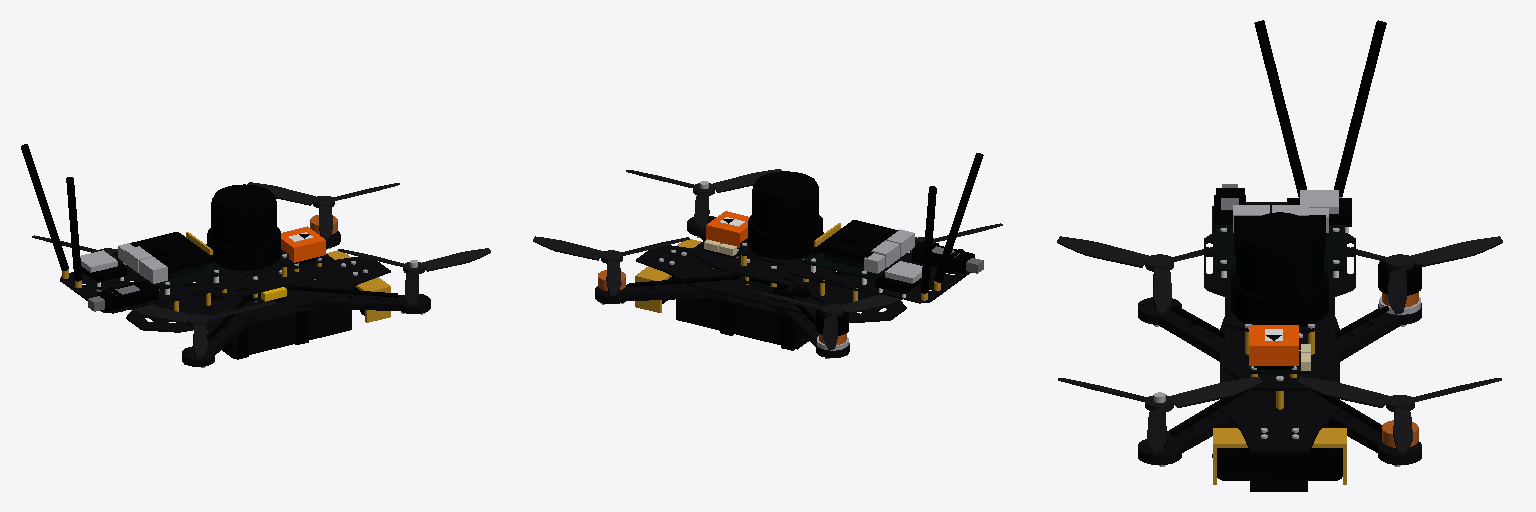
The robot description file, URDF, robot "aos7v5":
<?xml version="1.0"?>
<!-- AOS 7 V5 search-and-rescue quad, generated by Tools/DroneCAD/aos7v5/build.py (iteration 6). Do not edit by hand:
     change Tools/DroneCAD/aos7v5/params.py and rebuild.  Geometry is original (modelled from published dimensions); GPL-3.0.
     Frames: REP-103 FLU, base_link origin = frame centre (motor-rectangle centre, arm mid-plane).  Masses in kg, inertias about each link CoM.
     Rotors follow PX4 quad-X numbering: rotor_0 = motor 1 front-right CCW, rotor_1 = motor 2 rear-left CCW, rotor_2 = motor 3 front-left CW,
     rotor_3 = motor 4 rear-right CW  (CRANE M1..M4 = FR, RL, FL, RR, the same order).  Physics coefficients: aos7v5_multirotor.yaml -->
<robot name="aos7v5">
  <material name="carbon"><color rgba="0.07 0.07 0.08 1"/></material>
  <material name="orange"><color rgba="0.95 0.38 0.04 1"/></material>
  <material name="gold"><color rgba="0.8 0.6 0.16 1"/></material>
  <material name="black"><color rgba="0.03 0.03 0.035 1"/></material>
  <material name="alu"><color rgba="0.68 0.68 0.7 1"/></material>
  <material name="pcb"><color rgba="0.05 0.08 0.07 1"/></material>
  <material name="copper"><color rgba="0.72 0.38 0.14 1"/></material>
  <material name="yellow"><color rgba="0.92 0.72 0.05 1"/></material>
  <material name="grey"><color rgba="0.45 0.45 0.47 1"/></material>
  <material name="white"><color rgba="0.9 0.9 0.9 1"/></material>
  <material name="green"><color rgba="0.1 0.9 0.25 1"/></material>
  <material name="glass"><color rgba="0.02 0.03 0.04 1"/></material>
  <material name="prop"><color rgba="0.12 0.12 0.13 1"/></material>
  <material name="beige"><color rgba="0.85 0.8 0.65 1"/></material>
  <material name="lipo"><color rgba="0.05 0.05 0.06 1"/></material>
  <link name="base_link">
    <inertial><origin xyz="-0.000873798 4.57615e-05 0.00299463" rpy="0 0 0"/><mass value="0.250000"/><inertia ixx="6.155015e-04" ixy="-9.133400e-08" ixz="3.611877e-07" iyy="1.466358e-03" iyz="3.228392e-08" izz="2.029541e-03"/></inertial>
    <visual><geometry><mesh filename="package://aos7v5/meshes/visual/base_link__alu.stl"/></geometry><material name="alu"/></visual>
    <visual><geometry><mesh filename="package://aos7v5/meshes/visual/base_link__black.stl"/></geometry><material name="black"/></visual>
    <visual><geometry><mesh filename="package://aos7v5/meshes/visual/base_link__carbon.stl"/></geometry><material name="carbon"/></visual>
    <visual><geometry><mesh filename="package://aos7v5/meshes/visual/base_link__gold.stl"/></geometry><material name="gold"/></visual>
    <collision><origin xyz="-0.01 0 -0.00025" rpy="0 0 0"/><geometry><box size="0.2 0.08 0.0125"/></geometry></collision>
    <collision><origin xyz="0.0805 -0.053 0" rpy="0 0 -0.697903"/><geometry><box size="0.12138 0.022 0.008"/></geometry></collision>
    <collision><origin xyz="-0.0805 0.053 0" rpy="0 0 2.44369"/><geometry><box size="0.12138 0.022 0.008"/></geometry></collision>
    <collision><origin xyz="0.0805 0.053 0" rpy="0 0 0.697903"/><geometry><box size="0.12138 0.022 0.008"/></geometry></collision>
    <collision><origin xyz="-0.0805 -0.053 0" rpy="0 0 -2.44369"/><geometry><box size="0.12138 0.022 0.008"/></geometry></collision>
  </link>
  <link name="payload_deck_link">
    <inertial><origin xyz="-0.0963789 7.60676e-05 0.000103741" rpy="0 0 0"/><mass value="0.076474"/><inertia ixx="6.990807e-05" ixy="1.475606e-07" ixz="3.100592e-06" iyy="3.201013e-04" iyz="-2.478541e-08" izz="3.856675e-04"/></inertial>
    <visual><geometry><mesh filename="package://aos7v5/meshes/visual/payload_deck_link__alu.stl"/></geometry><material name="alu"/></visual>
    <visual><geometry><mesh filename="package://aos7v5/meshes/visual/payload_deck_link__carbon.stl"/></geometry><material name="carbon"/></visual>
    <visual><geometry><mesh filename="package://aos7v5/meshes/visual/payload_deck_link__gold.stl"/></geometry><material name="gold"/></visual>
    <visual><geometry><mesh filename="package://aos7v5/meshes/visual/payload_deck_link__white.stl"/></geometry><material name="white"/></visual>
    <collision><origin xyz="-0.096 0 0.001" rpy="0 0 0"/><geometry><box size="0.232 0.116 0.002"/></geometry></collision>
  </link>
  <joint name="payload_deck_link_joint" type="fixed"><parent link="base_link"/><child link="payload_deck_link"/><origin xyz="0 0 0.05" rpy="0 0 0"/></joint>
  <link name="motor_0">
    <inertial><origin xyz="0 0 0.00751979" rpy="0 0 0"/><mass value="0.026600"/><inertia ixx="2.038918e-06" ixy="-6.141542e-23" ixz="6.723572e-24" iyy="2.038918e-06" iyz="-2.819113e-25" izz="2.904076e-06"/></inertial>
    <visual><geometry><mesh filename="package://aos7v5/meshes/visual/motor_0__alu.stl"/></geometry><material name="alu"/></visual>
    <visual><geometry><mesh filename="package://aos7v5/meshes/visual/motor_0__copper.stl"/></geometry><material name="copper"/></visual>
    <collision><origin xyz="0 0 0.01735" rpy="0 0 0"/><geometry><cylinder radius="0.016" length="0.0347"/></geometry></collision>
  </link>
  <joint name="motor_0_joint" type="fixed"><parent link="base_link"/><child link="motor_0"/><origin xyz="0.127 -0.092 0.004" rpy="0 0 0"/></joint>
  <link name="rotor_0">
    <inertial><origin xyz="0 -4.16334e-17 -0.0044378" rpy="0 0 0"/><mass value="0.029000"/><inertia ixx="1.208863e-05" ixy="-4.235165e-20" ixz="2.879912e-20" iyy="1.208863e-05" iyz="-1.974646e-20" izz="2.200899e-05"/></inertial>
    <visual><geometry><mesh filename="package://aos7v5/meshes/visual/rotor_0__alu.stl"/></geometry><material name="alu"/></visual>
    <visual><geometry><mesh filename="package://aos7v5/meshes/visual/rotor_0__black.stl"/></geometry><material name="black"/></visual>
    <visual><geometry><mesh filename="package://aos7v5/meshes/visual/rotor_0__prop.stl"/></geometry><material name="prop"/></visual>
  </link>
  <joint name="rotor_0_joint" type="continuous"><parent link="motor_0"/><child link="rotor_0"/><origin xyz="0 0 0.036" rpy="0 0 0"/><axis xyz="0 0 1"/><dynamics damping="0" friction="0"/></joint>
  <link name="motor_1">
    <inertial><origin xyz="0 1.38778e-17 0.00751979" rpy="0 0 0"/><mass value="0.026600"/><inertia ixx="2.038918e-06" ixy="5.519962e-23" ixz="-8.964762e-24" iyy="2.038918e-06" iyz="1.258287e-24" izz="2.904076e-06"/></inertial>
    <visual><geometry><mesh filename="package://aos7v5/meshes/visual/motor_1__alu.stl"/></geometry><material name="alu"/></visual>
    <visual><geometry><mesh filename="package://aos7v5/meshes/visual/motor_1__copper.stl"/></geometry><material name="copper"/></visual>
    <collision><origin xyz="0 0 0.01735" rpy="0 0 0"/><geometry><cylinder radius="0.016" length="0.0347"/></geometry></collision>
  </link>
  <joint name="motor_1_joint" type="fixed"><parent link="base_link"/><child link="motor_1"/><origin xyz="-0.127 0.092 0.004" rpy="0 0 0"/></joint>
  <link name="rotor_1">
    <inertial><origin xyz="0 2.77556e-17 -0.0044378" rpy="0 0 0"/><mass value="0.029000"/><inertia ixx="1.208863e-05" ixy="-2.558040e-19" ixz="-6.935082e-20" iyy="1.208863e-05" iyz="2.016997e-20" izz="2.200899e-05"/></inertial>
    <visual><geometry><mesh filename="package://aos7v5/meshes/visual/rotor_1__alu.stl"/></geometry><material name="alu"/></visual>
    <visual><geometry><mesh filename="package://aos7v5/meshes/visual/rotor_1__black.stl"/></geometry><material name="black"/></visual>
    <visual><geometry><mesh filename="package://aos7v5/meshes/visual/rotor_1__prop.stl"/></geometry><material name="prop"/></visual>
  </link>
  <joint name="rotor_1_joint" type="continuous"><parent link="motor_1"/><child link="rotor_1"/><origin xyz="0 0 0.036" rpy="0 0 0"/><axis xyz="0 0 1"/><dynamics damping="0" friction="0"/></joint>
  <link name="motor_2">
    <inertial><origin xyz="0 0 0.00751979" rpy="0 0 0"/><mass value="0.026600"/><inertia ixx="2.038918e-06" ixy="-6.141542e-23" ixz="6.723572e-24" iyy="2.038918e-06" iyz="-2.819113e-25" izz="2.904076e-06"/></inertial>
    <visual><geometry><mesh filename="package://aos7v5/meshes/visual/motor_2__alu.stl"/></geometry><material name="alu"/></visual>
    <visual><geometry><mesh filename="package://aos7v5/meshes/visual/motor_2__copper.stl"/></geometry><material name="copper"/></visual>
    <collision><origin xyz="0 0 0.01735" rpy="0 0 0"/><geometry><cylinder radius="0.016" length="0.0347"/></geometry></collision>
  </link>
  <joint name="motor_2_joint" type="fixed"><parent link="base_link"/><child link="motor_2"/><origin xyz="0.127 0.092 0.004" rpy="0 0 0"/></joint>
  <link name="rotor_2">
    <inertial><origin xyz="0 4.16334e-17 -0.0044378" rpy="0 0 0"/><mass value="0.029000"/><inertia ixx="1.208863e-05" ixy="3.049319e-20" ixz="2.879912e-20" iyy="1.208863e-05" iyz="2.016997e-20" izz="2.200899e-05"/></inertial>
    <visual><geometry><mesh filename="package://aos7v5/meshes/visual/rotor_2__alu.stl"/></geometry><material name="alu"/></visual>
    <visual><geometry><mesh filename="package://aos7v5/meshes/visual/rotor_2__black.stl"/></geometry><material name="black"/></visual>
    <visual><geometry><mesh filename="package://aos7v5/meshes/visual/rotor_2__prop.stl"/></geometry><material name="prop"/></visual>
  </link>
  <joint name="rotor_2_joint" type="continuous"><parent link="motor_2"/><child link="rotor_2"/><origin xyz="0 0 0.036" rpy="0 0 0"/><axis xyz="0 0 1"/><dynamics damping="0" friction="0"/></joint>
  <link name="motor_3">
    <inertial><origin xyz="0 -1.38778e-17 0.00751979" rpy="0 0 0"/><mass value="0.026600"/><inertia ixx="2.038918e-06" ixy="5.519962e-23" ixz="-8.964762e-24" iyy="2.038918e-06" iyz="1.258287e-24" izz="2.904076e-06"/></inertial>
    <visual><geometry><mesh filename="package://aos7v5/meshes/visual/motor_3__alu.stl"/></geometry><material name="alu"/></visual>
    <visual><geometry><mesh filename="package://aos7v5/meshes/visual/motor_3__copper.stl"/></geometry><material name="copper"/></visual>
    <collision><origin xyz="0 0 0.01735" rpy="0 0 0"/><geometry><cylinder radius="0.016" length="0.0347"/></geometry></collision>
  </link>
  <joint name="motor_3_joint" type="fixed"><parent link="base_link"/><child link="motor_3"/><origin xyz="-0.127 -0.092 0.004" rpy="0 0 0"/></joint>
  <link name="rotor_3">
    <inertial><origin xyz="0 -2.77556e-17 -0.0044378" rpy="0 0 0"/><mass value="0.029000"/><inertia ixx="1.208863e-05" ixy="2.414044e-19" ixz="-6.950964e-20" iyy="1.208863e-05" iyz="-1.990527e-20" izz="2.200899e-05"/></inertial>
    <visual><geometry><mesh filename="package://aos7v5/meshes/visual/rotor_3__alu.stl"/></geometry><material name="alu"/></visual>
    <visual><geometry><mesh filename="package://aos7v5/meshes/visual/rotor_3__black.stl"/></geometry><material name="black"/></visual>
    <visual><geometry><mesh filename="package://aos7v5/meshes/visual/rotor_3__prop.stl"/></geometry><material name="prop"/></visual>
  </link>
  <joint name="rotor_3_joint" type="continuous"><parent link="motor_3"/><child link="rotor_3"/><origin xyz="0 0 0.036" rpy="0 0 0"/><axis xyz="0 0 1"/><dynamics damping="0" friction="0"/></joint>
  <link name="esc_link">
    <inertial><origin xyz="-0.00650204 -0.003927 0.000220478" rpy="0 0 0"/><mass value="0.015800"/><inertia ixx="3.061641e-06" ixy="4.034293e-07" ixz="8.008201e-08" iyy="3.031431e-06" iyz="1.104133e-07" izz="5.902906e-06"/></inertial>
    <visual><geometry><mesh filename="package://aos7v5/meshes/visual/esc_link__black.stl"/></geometry><material name="black"/></visual>
    <visual><geometry><mesh filename="package://aos7v5/meshes/visual/esc_link__pcb.stl"/></geometry><material name="pcb"/></visual>
    <visual><geometry><mesh filename="package://aos7v5/meshes/visual/esc_link__yellow.stl"/></geometry><material name="yellow"/></visual>
    <collision><origin xyz="0 0 0" rpy="0 0 0"/><geometry><box size="0.043 0.044 0.007"/></geometry></collision>
  </link>
  <joint name="esc_link_joint" type="fixed"><parent link="base_link"/><child link="esc_link"/><origin xyz="0 0 0.0125" rpy="0 0 0"/></joint>
  <link name="cube_carrier_link">
    <inertial><origin xyz="2.26936e-06 -0.00300684 0.0121386" rpy="0 0 0"/><mass value="0.056016"/><inertia ixx="1.093394e-05" ixy="2.025246e-10" ixz="-1.565040e-09" iyy="9.272182e-06" iyz="6.967221e-07" izz="1.458130e-05"/></inertial>
    <visual><geometry><mesh filename="package://aos7v5/meshes/visual/cube_carrier_link__alu.stl"/></geometry><material name="alu"/></visual>
    <visual><geometry><mesh filename="package://aos7v5/meshes/visual/cube_carrier_link__beige.stl"/></geometry><material name="beige"/></visual>
    <visual><geometry><mesh filename="package://aos7v5/meshes/visual/cube_carrier_link__black.stl"/></geometry><material name="black"/></visual>
    <visual><geometry><mesh filename="package://aos7v5/meshes/visual/cube_carrier_link__gold.stl"/></geometry><material name="gold"/></visual>
    <visual><geometry><mesh filename="package://aos7v5/meshes/visual/cube_carrier_link__orange.stl"/></geometry><material name="orange"/></visual>
    <visual><geometry><mesh filename="package://aos7v5/meshes/visual/cube_carrier_link__pcb.stl"/></geometry><material name="pcb"/></visual>
    <visual><geometry><mesh filename="package://aos7v5/meshes/visual/cube_carrier_link__white.stl"/></geometry><material name="white"/></visual>
    <collision><origin xyz="0 0 0.012" rpy="0 0 0"/><geometry><box size="0.0385 0.0474 0.024"/></geometry></collision>
  </link>
  <joint name="cube_carrier_link_joint" type="fixed"><parent link="base_link"/><child link="cube_carrier_link"/><origin xyz="0.044 0 0.035" rpy="0 0 0"/></joint>
  <link name="l2_link">
    <inertial><origin xyz="1.80531e-06 -1.3887e-06 0.0342558" rpy="0 0 0"/><mass value="0.230000"/><inertia ixx="1.405522e-04" ixy="8.303855e-09" ixz="5.504095e-09" iyy="1.405566e-04" iyz="-4.233919e-09" izz="1.369710e-04"/></inertial>
    <visual><geometry><mesh filename="package://aos7v5/meshes/visual/l2_link__black.stl"/></geometry><material name="black"/></visual>
    <visual><geometry><mesh filename="package://aos7v5/meshes/visual/l2_link__glass.stl"/></geometry><material name="glass"/></visual>
    <visual><geometry><mesh filename="package://aos7v5/meshes/visual/l2_link__green.stl"/></geometry><material name="green"/></visual>
    <collision><origin xyz="0 0 0.0325" rpy="0 0 0"/><geometry><box size="0.075 0.075 0.065"/></geometry></collision>
  </link>
  <joint name="l2_link_joint" type="fixed"><parent link="base_link"/><child link="l2_link"/><origin xyz="-0.02 0 0.052" rpy="0 0 0"/></joint>
  <link name="jetson_link">
    <inertial><origin xyz="-0.00545893 6.2431e-05 0.00872031" rpy="0 0 0"/><mass value="0.176000"/><inertia ixx="8.334902e-05" ixy="-1.260638e-06" ixz="7.147825e-07" iyy="8.264478e-05" iyz="2.164732e-07" izz="1.551488e-04"/></inertial>
    <visual><geometry><mesh filename="package://aos7v5/meshes/visual/jetson_link__alu.stl"/></geometry><material name="alu"/></visual>
    <visual><geometry><mesh filename="package://aos7v5/meshes/visual/jetson_link__black.stl"/></geometry><material name="black"/></visual>
    <visual><geometry><mesh filename="package://aos7v5/meshes/visual/jetson_link__gold.stl"/></geometry><material name="gold"/></visual>
    <visual><geometry><mesh filename="package://aos7v5/meshes/visual/jetson_link__pcb.stl"/></geometry><material name="pcb"/></visual>
    <collision><origin xyz="0 0 0.0105" rpy="0 0 0"/><geometry><box size="0.079 0.1 0.022"/></geometry></collision>
  </link>
  <joint name="jetson_link_joint" type="fixed"><parent link="base_link"/><child link="jetson_link"/><origin xyz="-0.106 0 0.062" rpy="0 0 0"/></joint>
  <link name="usb_eth_link">
    <inertial><origin xyz="-0.00288702 0 0.00648275" rpy="0 0 0"/><mass value="0.025500"/><inertia ixx="1.344155e-06" ixy="4.019743e-21" ixz="-3.553939e-08" iyy="1.007338e-05" iyz="-1.381834e-21" izz="1.068150e-05"/></inertial>
    <visual><geometry><mesh filename="package://aos7v5/meshes/visual/usb_eth_link__black.stl"/></geometry><material name="black"/></visual>
    <visual><geometry><mesh filename="package://aos7v5/meshes/visual/usb_eth_link__grey.stl"/></geometry><material name="grey"/></visual>
    <collision><origin xyz="0 0 0.0065" rpy="0 0 0"/><geometry><box size="0.06 0.022 0.013"/></geometry></collision>
  </link>
  <joint name="usb_eth_link_joint" type="fixed"><parent link="base_link"/><child link="usb_eth_link"/><origin xyz="-0.179 -0.038 0.052" rpy="0 0 0"/></joint>
  <link name="radio_link">
    <inertial><origin xyz="-0.02296 0.00047619 0.034617" rpy="0 0 0"/><mass value="0.042000"/><inertia ixx="9.288971e-05" ixy="4.771202e-07" ixz="3.564440e-05" iyy="9.574056e-05" iyz="-6.245750e-07" izz="4.821575e-05"/></inertial>
    <visual><geometry><mesh filename="package://aos7v5/meshes/visual/radio_link__alu.stl"/></geometry><material name="alu"/></visual>
    <visual><geometry><mesh filename="package://aos7v5/meshes/visual/radio_link__black.stl"/></geometry><material name="black"/></visual>
    <visual><geometry><mesh filename="package://aos7v5/meshes/visual/radio_link__gold.stl"/></geometry><material name="gold"/></visual>
    <collision><origin xyz="-0.003 0 0.007" rpy="0 0 0"/><geometry><box size="0.041 0.05 0.014"/></geometry></collision>
  </link>
  <joint name="radio_link_joint" type="fixed"><parent link="base_link"/><child link="radio_link"/><origin xyz="-0.172 0.03 0.058" rpy="0 0 0"/></joint>
  <link name="rx_link">
    <inertial><origin xyz="-0.00138222 0.000600966 0.00018029" rpy="0 0 0"/><mass value="0.005000"/><inertia ixx="9.894092e-08" ixy="7.996534e-08" ixz="2.398960e-08" iyy="2.854771e-07" iyz="-1.147427e-08" izz="3.578785e-07"/></inertial>
    <visual><geometry><mesh filename="package://aos7v5/meshes/visual/rx_link__black.stl"/></geometry><material name="black"/></visual>
  </link>
  <joint name="rx_link_joint" type="fixed"><parent link="base_link"/><child link="rx_link"/><origin xyz="-0.044 0.012 0.0086" rpy="0 0 0"/></joint>
  <link name="oak_d_link">
    <inertial><origin xyz="6.78728e-05 -8.3458e-20 1.1652e-05" rpy="0 0 0"/><mass value="0.091000"/><inertia ixx="7.794726e-05" ixy="-5.416916e-25" ixz="-1.228088e-08" iyy="1.066229e-05" iyz="3.107036e-23" izz="7.547410e-05"/></inertial>
    <visual><geometry><mesh filename="package://aos7v5/meshes/visual/oak_d_link__black.stl"/></geometry><material name="black"/></visual>
    <visual><geometry><mesh filename="package://aos7v5/meshes/visual/oak_d_link__glass.stl"/></geometry><material name="glass"/></visual>
    <collision><origin xyz="0.001 0 0" rpy="0 0 0"/><geometry><box size="0.0291 0.103 0.0375"/></geometry></collision>
  </link>
  <joint name="oak_d_link_joint" type="fixed"><parent link="base_link"/><child link="oak_d_link"/><origin xyz="0.10805 0 -0.01375" rpy="0 0 0"/></joint>
  <link name="oak_bracket_link">
    <inertial><origin xyz="0.00100355 5.29396e-20 0.00999997" rpy="0 0 0"/><mass value="0.015000"/><inertia ixx="2.441712e-05" ixy="1.364848e-23" ixz="-9.693651e-10" iyy="2.562239e-06" iyz="-6.617445e-24" izz="2.396852e-05"/></inertial>
    <visual><geometry><mesh filename="package://aos7v5/meshes/visual/oak_bracket_link__alu.stl"/></geometry><material name="alu"/></visual>
    <visual><geometry><mesh filename="package://aos7v5/meshes/visual/oak_bracket_link__gold.stl"/></geometry><material name="gold"/></visual>
  </link>
  <joint name="oak_bracket_link_joint" type="fixed"><parent link="base_link"/><child link="oak_bracket_link"/><origin xyz="0.10805 0 -0.01375" rpy="0 0 0"/></joint>
  <link name="harness_link">
    <inertial><origin xyz="0.00474134 0.0036865 -0.00467402" rpy="0 0 0"/><mass value="0.055000"/><inertia ixx="1.243625e-04" ixy="8.099198e-06" ixz="3.416401e-08" iyy="2.313514e-04" iyz="-4.905048e-07" izz="3.549461e-04"/></inertial>
    <visual><geometry><mesh filename="package://aos7v5/meshes/visual/harness_link__black.stl"/></geometry><material name="black"/></visual>
  </link>
  <joint name="harness_link_joint" type="fixed"><parent link="base_link"/><child link="harness_link"/><origin xyz="-0.01 0 0.014" rpy="0 0 0"/></joint>
  <link name="battery_link">
    <inertial><origin xyz="-0.000788056 1.0842e-19 0.000224742" rpy="0 0 0"/><mass value="0.524000"/><inertia ixx="1.581559e-04" ixy="9.929434e-22" ixz="2.384842e-06" iyy="9.493778e-04" iyz="9.461535e-23" izz="9.661751e-04"/></inertial>
    <visual><geometry><mesh filename="package://aos7v5/meshes/visual/battery_link__grey.stl"/></geometry><material name="grey"/></visual>
    <visual><geometry><mesh filename="package://aos7v5/meshes/visual/battery_link__lipo.stl"/></geometry><material name="lipo"/></visual>
    <visual><geometry><mesh filename="package://aos7v5/meshes/visual/battery_link__yellow.stl"/></geometry><material name="yellow"/></visual>
    <collision><origin xyz="0 0 0" rpy="0 0 0"/><geometry><box size="0.14 0.045 0.04"/></geometry></collision>
  </link>
  <joint name="battery_link_joint" type="fixed"><parent link="base_link"/><child link="battery_link"/><origin xyz="0.024 -0.000714141 -0.0295" rpy="0 0 0"/></joint>
  <link name="oak_d_left_camera_frame"/>
  <joint name="oak_d_left_camera_frame_joint" type="fixed"><parent link="oak_d_link"/><child link="oak_d_left_camera_frame"/><origin xyz="0.01155 0.0375 0" rpy="0 0 0"/></joint>
  <link name="oak_d_right_camera_frame"/>
  <joint name="oak_d_right_camera_frame_joint" type="fixed"><parent link="oak_d_link"/><child link="oak_d_right_camera_frame"/><origin xyz="0.01155 -0.0375 0" rpy="0 0 0"/></joint>
  <link name="oak_d_rgb_camera_frame"/>
  <joint name="oak_d_rgb_camera_frame_joint" type="fixed"><parent link="oak_d_link"/><child link="oak_d_rgb_camera_frame"/><origin xyz="0.01155 0 0" rpy="0 0 0"/></joint>
  <link name="oak_d_left_camera_optical_frame"/>
  <joint name="oak_d_left_camera_optical_frame_joint" type="fixed"><parent link="oak_d_left_camera_frame"/><child link="oak_d_left_camera_optical_frame"/><origin xyz="0 0 0" rpy="-1.5707963 0 -1.5707963"/></joint>
  <link name="oak_d_right_camera_optical_frame"/>
  <joint name="oak_d_right_camera_optical_frame_joint" type="fixed"><parent link="oak_d_right_camera_frame"/><child link="oak_d_right_camera_optical_frame"/><origin xyz="0 0 0" rpy="-1.5707963 0 -1.5707963"/></joint>
  <link name="oak_d_rgb_camera_optical_frame"/>
  <joint name="oak_d_rgb_camera_optical_frame_joint" type="fixed"><parent link="oak_d_rgb_camera_frame"/><child link="oak_d_rgb_camera_optical_frame"/><origin xyz="0 0 0" rpy="-1.5707963 0 -1.5707963"/></joint>
  <link name="l2_lidar_frame"/>
  <joint name="l2_lidar_frame_joint" type="fixed"><parent link="l2_link"/><child link="l2_lidar_frame"/><origin xyz="0 0 0.0445" rpy="0 0 0"/></joint>
  <link name="l2_imu_frame"/>
  <joint name="l2_imu_frame_joint" type="fixed"><parent link="l2_link"/><child link="l2_imu_frame"/><origin xyz="-0.007 0 0.0572" rpy="0 0 0"/></joint>
  <link name="cube_imu_link"/>
  <joint name="cube_imu_link_joint" type="fixed"><parent link="cube_carrier_link"/><child link="cube_imu_link"/><origin xyz="0 -0.0046 0.01565" rpy="0 0 0"/></joint>
  <gazebo reference="l2_lidar_frame"><sensor name="unitree_l2" type="gpu_lidar"><update_rate>10</update_rate></sensor></gazebo>
  <gazebo reference="oak_d_rgb_camera_optical_frame"><sensor name="oak_d_rgb" type="camera"><update_rate>30</update_rate></sensor></gazebo>
  <gazebo reference="oak_d_left_camera_optical_frame"><sensor name="oak_d_left" type="camera"><update_rate>30</update_rate></sensor></gazebo>
  <gazebo reference="oak_d_right_camera_optical_frame"><sensor name="oak_d_right" type="camera"><update_rate>30</update_rate></sensor></gazebo>
  <gazebo reference="cube_imu_link"><sensor name="cube_imu" type="imu"><update_rate>250</update_rate></sensor></gazebo>
</robot>

--- Render facts (derived) ---
The picture shows the robot from 3 angles, left to right: view 1: azimuth 30°, elevation 25°; view 2: azimuth 150°, elevation 25°; view 3: azimuth 270°, elevation 25°; orthographic projection.
Robot: aos7v5 — 30 links, 29 joints (4 continuous, 25 fixed); root link base_link; default pose: every joint at zero.
Links seen in each view (by area): view 1: base_link, l2_link, jetson_link, radio_link, payload_deck_link, battery_link, rotor_0, rotor_3, cube_carrier_link, rotor_2, usb_eth_link, oak_bracket_link (+1 smaller); view 2: base_link, l2_link, jetson_link, radio_link, payload_deck_link, battery_link, rotor_1, rotor_2, cube_carrier_link, rotor_0, usb_eth_link, oak_bracket_link (+1 smaller); view 3: base_link, l2_link, radio_link, oak_d_link, rotor_1, jetson_link, payload_deck_link, rotor_0, rotor_2, cube_carrier_link, rotor_3, oak_bracket_link (+3 smaller).
Boxes of the visible links, x1,y1,x2,y2 form: base_link: (126,231,430,367); l2_link: (207,184,280,270); jetson_link: (113,232,228,289); radio_link: (21,144,126,287); payload_deck_link: (60,244,288,313); battery_link: (207,308,351,358); rotor_0: (338,248,490,306); rotor_3: (130,301,274,359); cube_carrier_link: (281,226,325,271); rotor_2: (247,182,399,240); usb_eth_link: (88,280,159,311); oak_bracket_link: (326,250,390,322); base_link: (595,216,933,358); l2_link: (748,171,822,259); jetson_link: (801,220,919,278); radio_link: (875,153,983,300); payload_deck_link: (740,232,971,303); battery_link: (676,298,808,349); rotor_1: (754,291,902,350); rotor_2: (533,236,689,296); cube_carrier_link: (702,211,749,257); rotor_0: (626,169,781,228); usb_eth_link: (911,241,983,273); oak_bracket_link: (635,239,700,312); base_link: (1138,297,1421,466); l2_link: (1231,214,1328,326); radio_link: (1254,20,1386,226); oak_d_link: (1212,448,1342,480); rotor_1: (1356,236,1502,314); jetson_link: (1215,205,1344,270); payload_deck_link: (1204,202,1355,354); rotor_0: (1058,377,1262,454); rotor_2: (1297,377,1501,454); cube_carrier_link: (1249,325,1310,377); rotor_3: (1057,236,1203,314); oak_bracket_link: (1213,428,1346,484).
Bounding box of the posed robot: 0.4539 × 0.342 × 0.2461 m (x, y, z).
48 mesh visuals loaded from 59 distinct referenced files (48 binary STL); not drawn: 11 (reference not matched to a file when rendering).
